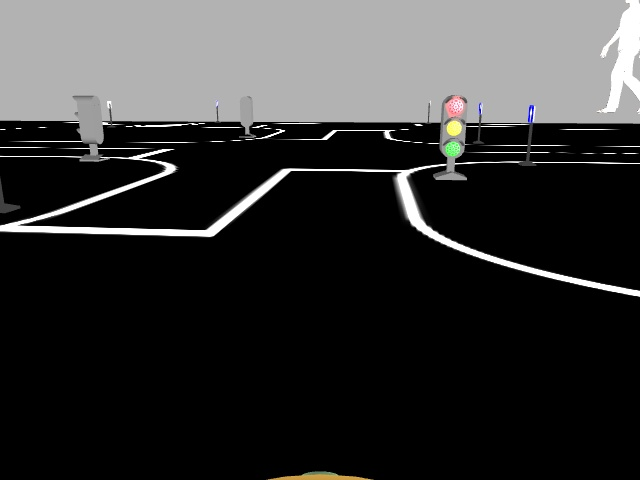TrafficLight: (438, 91, 468, 159)
